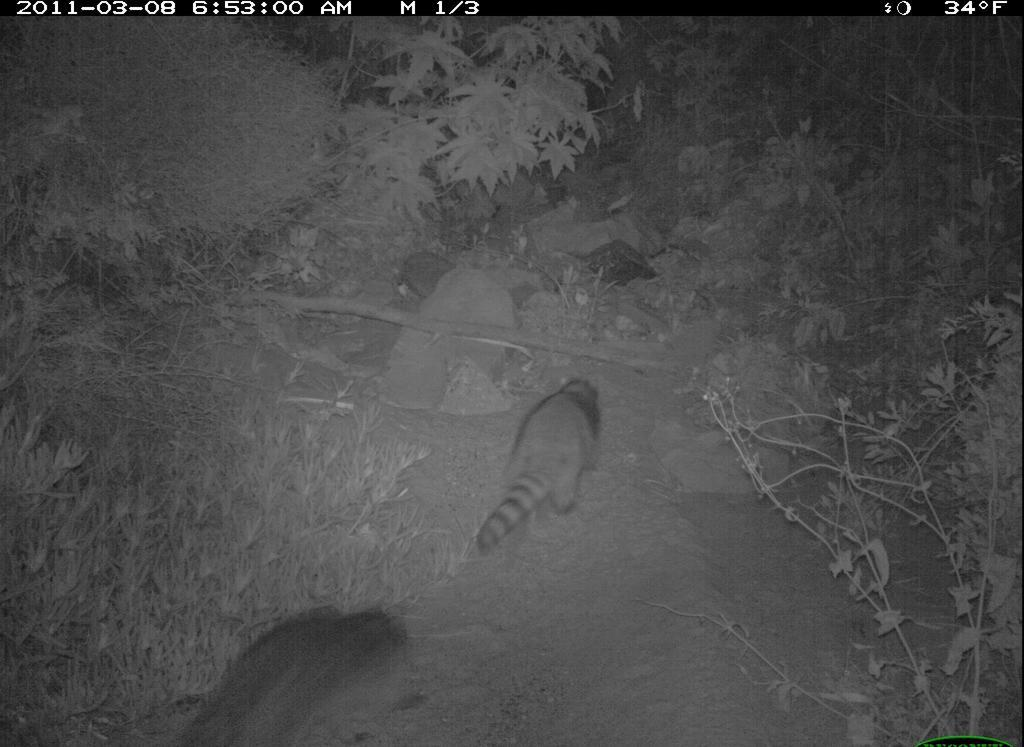raccoon: (166, 596, 431, 747), (465, 369, 615, 566)
